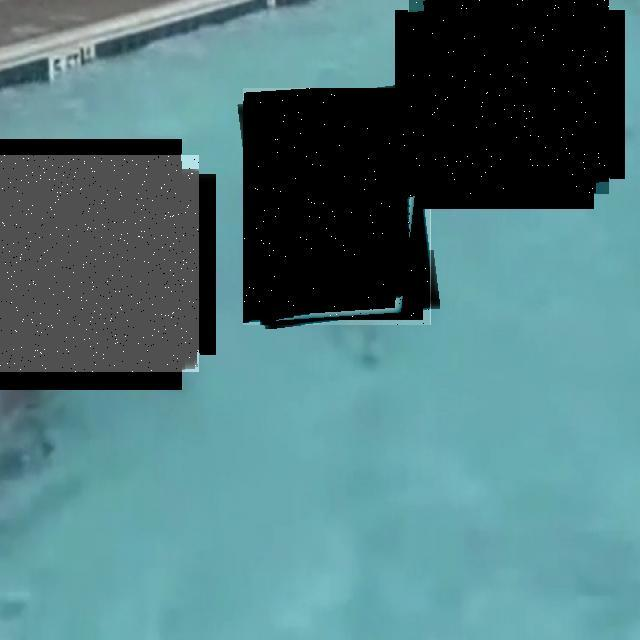swimming: (244, 88, 434, 325), (0, 155, 199, 372), (409, 0, 609, 194)
